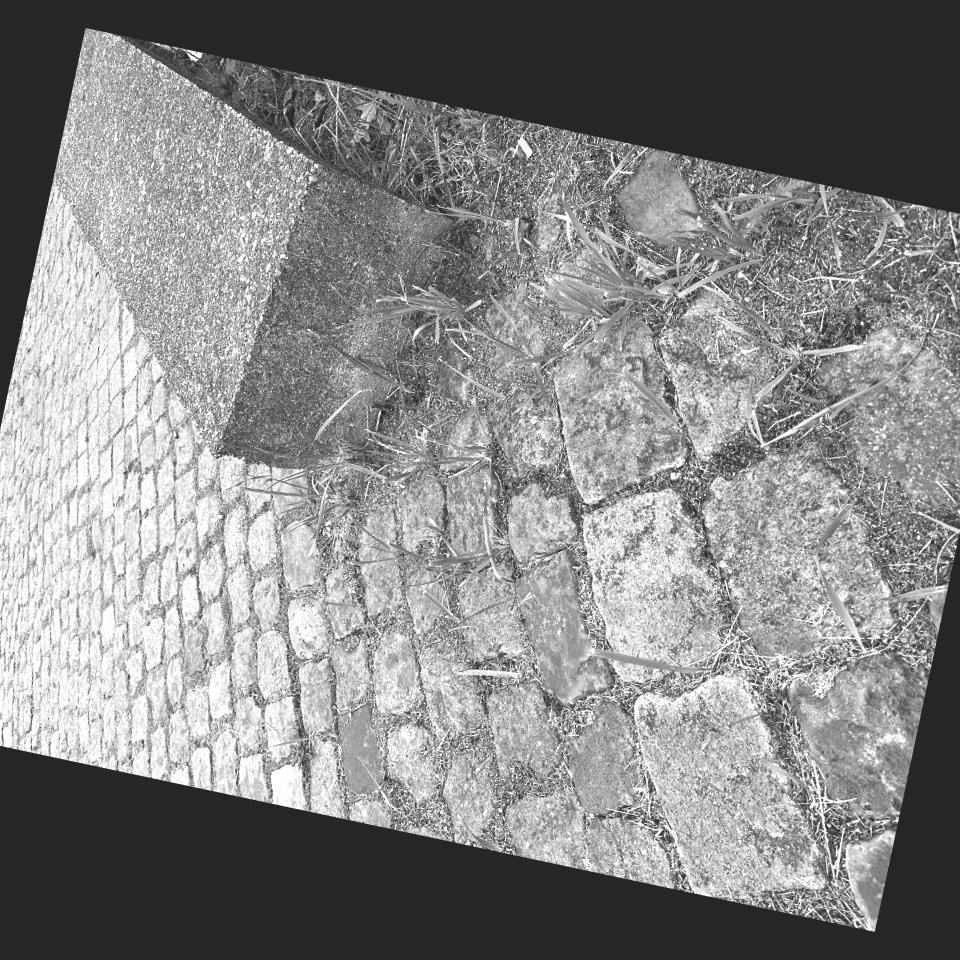weed: (228, 344, 631, 880), (34, 230, 366, 405), (143, 687, 169, 778), (133, 551, 163, 610)
